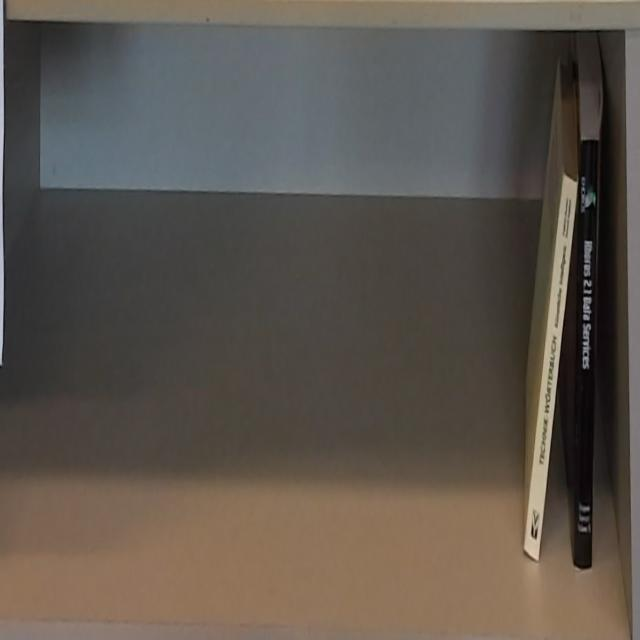Book Spine: (523, 172, 579, 565), (574, 139, 600, 573)
